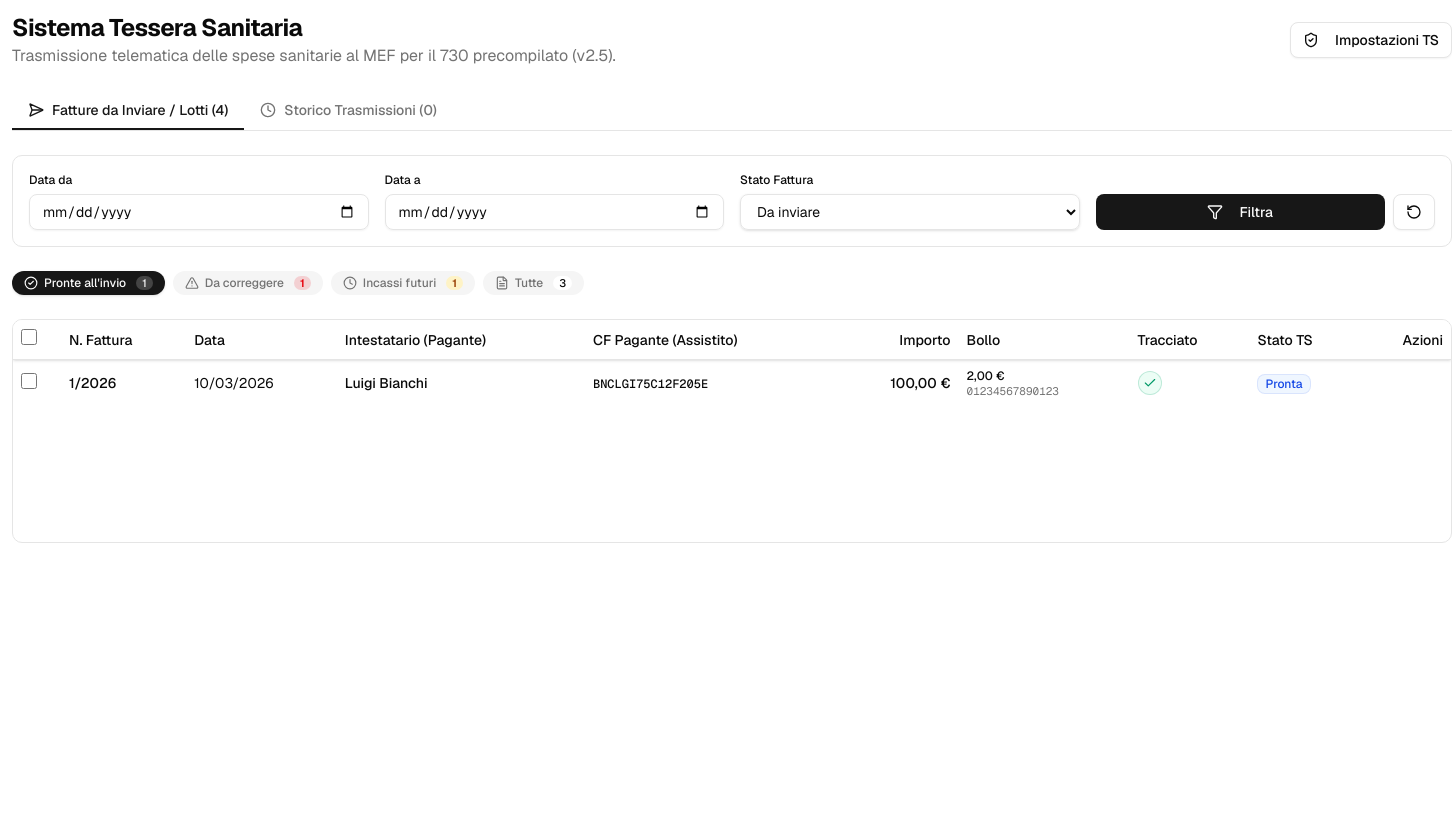
Test: SistemaTsManager › il reset dei filtri azzera la selezione e reindirizza allo stato predefinito DA_INVIARE
Seleziona la prima fattura idonea
Click the checkbox named "Seleziona fattura 1": [29, 381] box [21, 373, 37, 389]
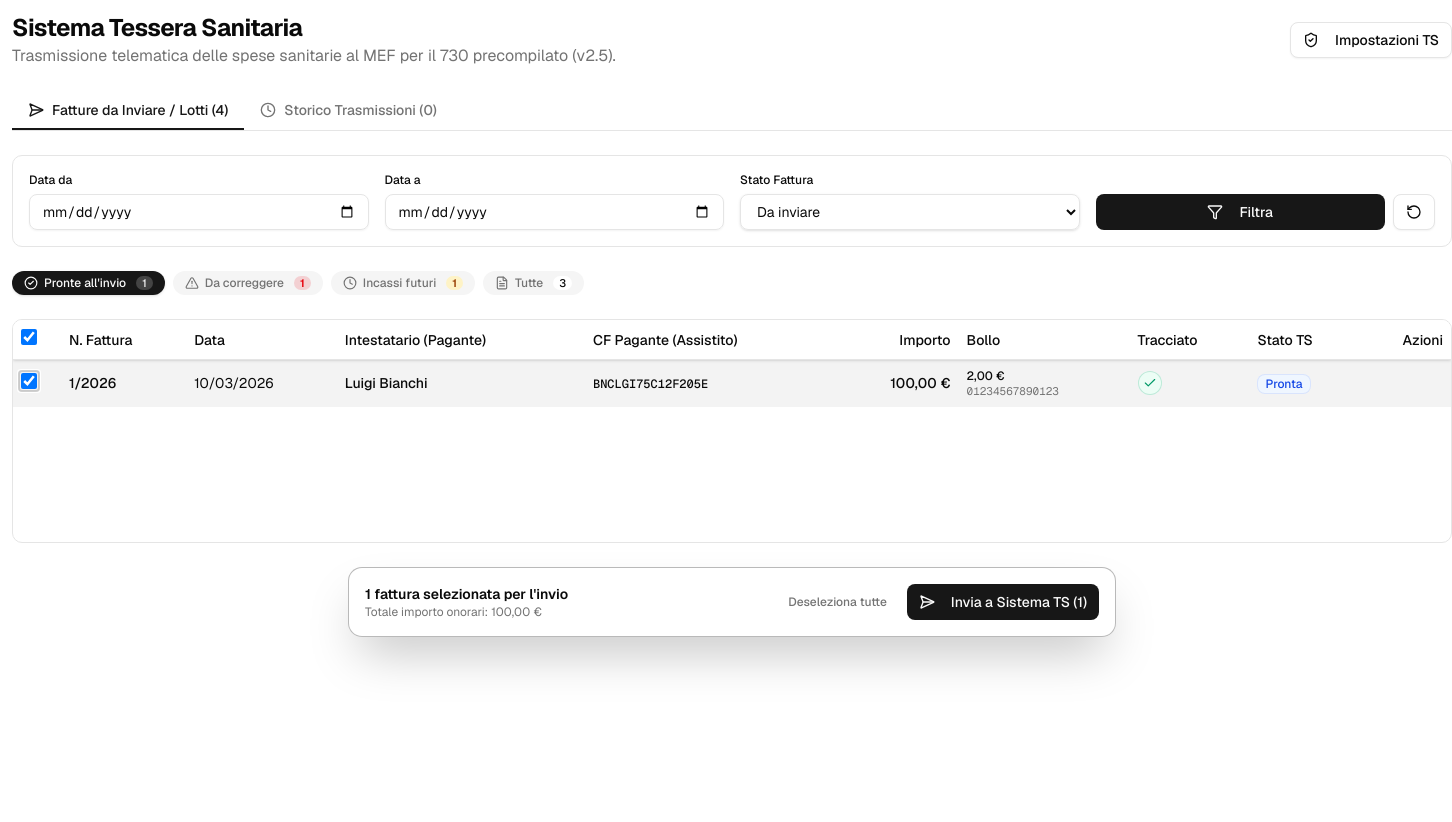
Expected: the text "1 fattura selezionata per l'invio" is shown, [365, 584, 568, 604]
Clicca sul pulsante Reset Filtri
Click the button named "Azzera filtri": [1414, 212] box [1393, 194, 1435, 230]
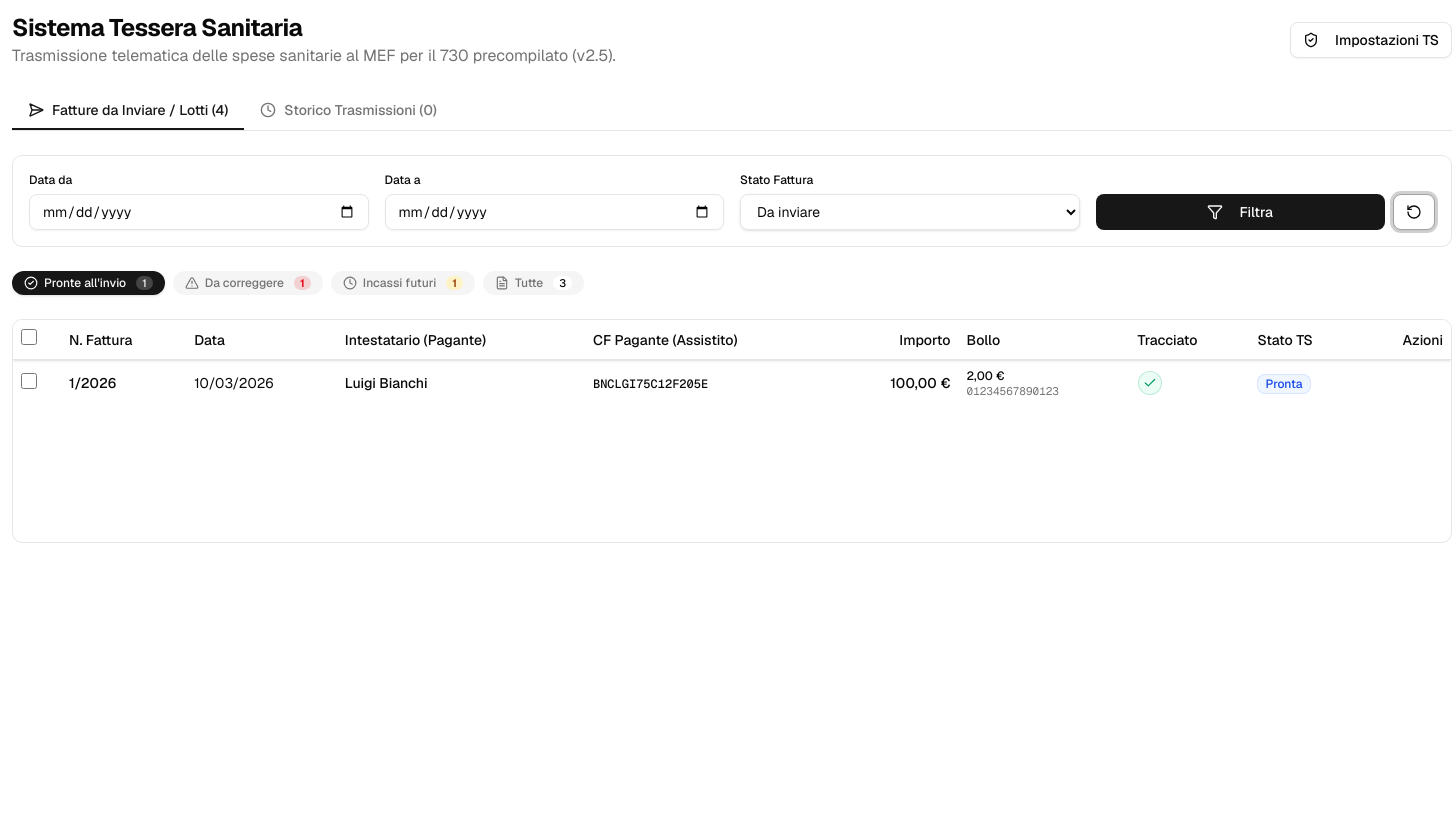
Expected: the text "fattura selezionata per l'invio" is gone
